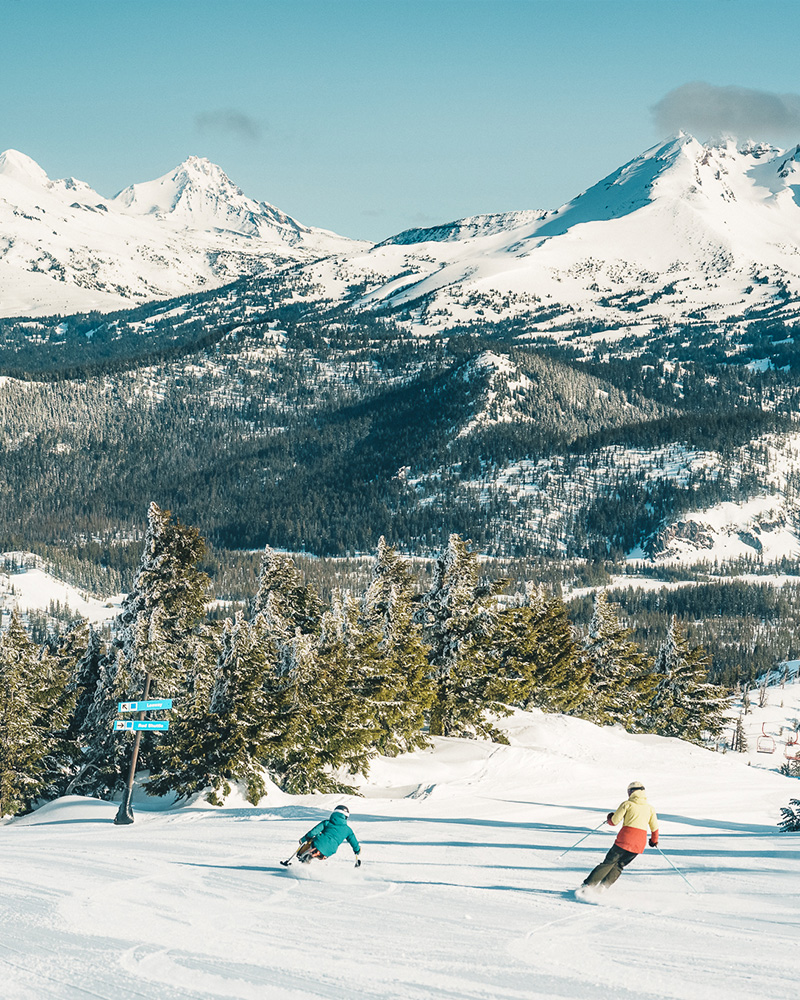skier: (550, 780, 706, 909), (268, 801, 366, 888)
